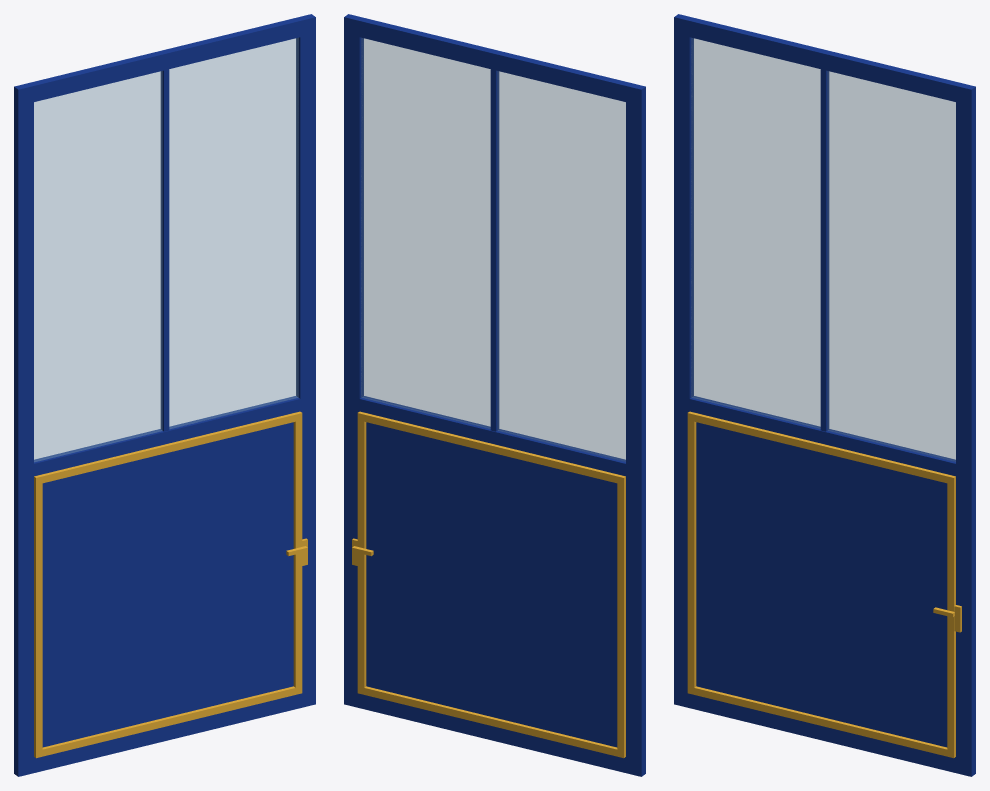
Rendered from SM_Door_academy_200x440.fbx.
3 views of the same model, side by side, from view 1: azimuth 30°, elevation 25°; view 2: azimuth 150°, elevation 25°; view 3: azimuth 330°, elevation 25° (orthographic).
Visible parts, largest first — view 1: SM_Door_academy_200x440; view 2: SM_Door_academy_200x440; view 3: SM_Door_academy_200x440.
Boxes of the visible parts, box(x1,y1,x2,y2) form: SM_Door_academy_200x440: box(14, 14, 315, 776); SM_Door_academy_200x440: box(344, 14, 645, 776); SM_Door_academy_200x440: box(674, 14, 975, 776).
Bounding box in the file's own units: 1.99 × 4.39 × 0.175.
